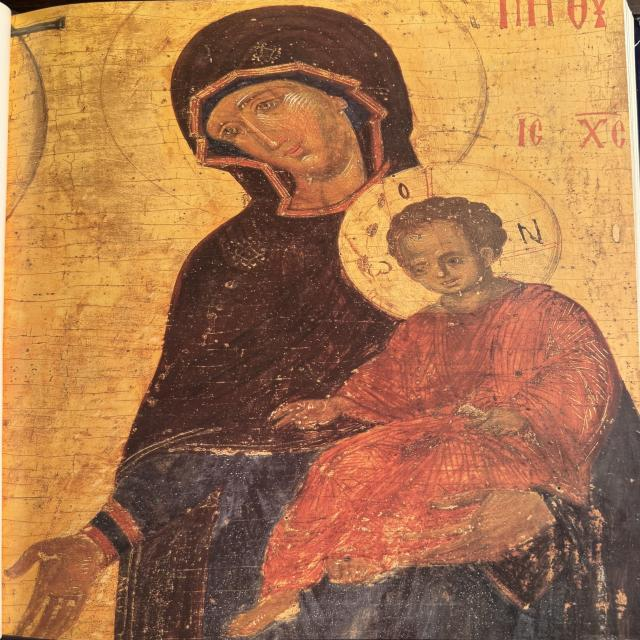aura: (104, 3, 491, 217), (335, 162, 563, 326)
christ_child: (261, 174, 617, 618)
christ_hand: (267, 392, 365, 438)
mary_and_child: (31, 7, 639, 640)
scroll: (450, 398, 548, 452)
